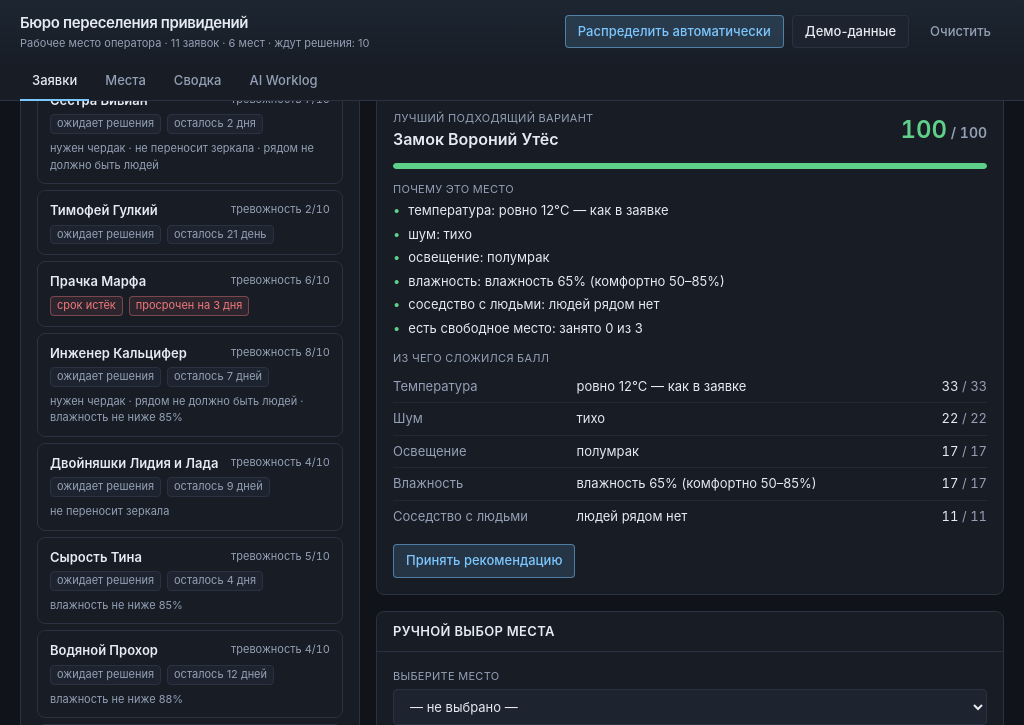
Test case: переселение невозможно › объясняет причины и показывает ближайшие варианты
(page scrolled)
Click the button "Инженер Кальцифер" at coordinates (190, 385), box [37, 332, 343, 437]
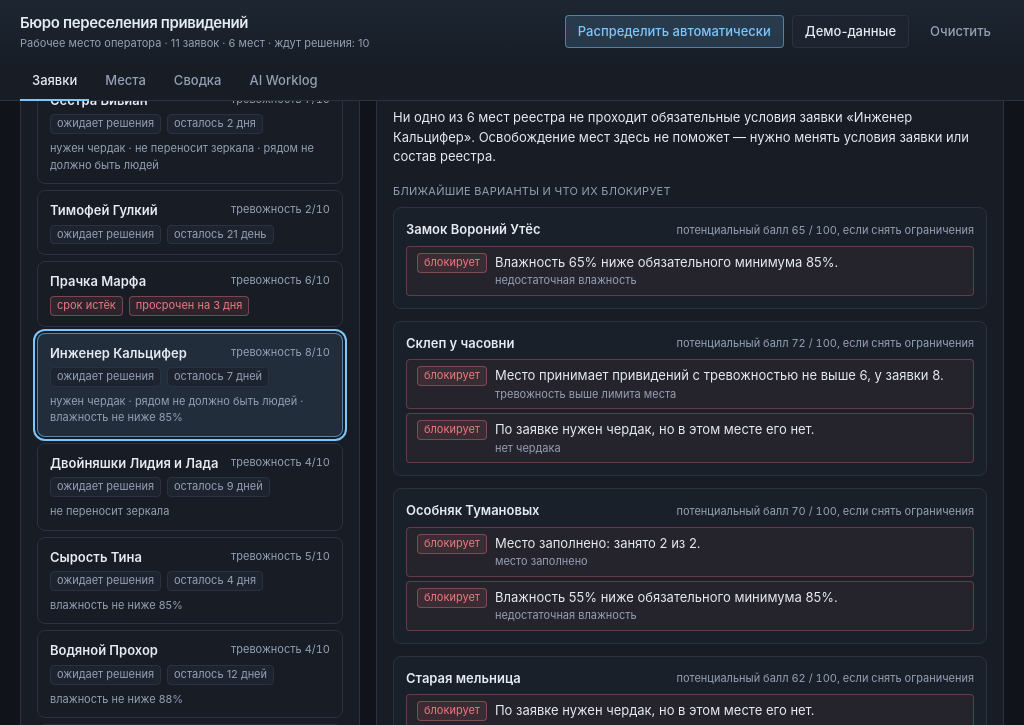
Check: the text "Ни одно из 6 мест реестра не проходит" is shown, box [393, 108, 987, 167]
Check: the text "Ближайшие варианты и что их блокирует" is shown, box [393, 184, 671, 198]
Check: the text "Влажность 65% ниже обязательного минимума 85%." is shown, box [495, 253, 838, 272]
